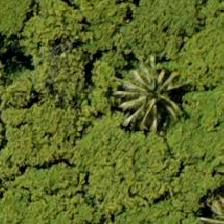Kelapa_Sawit: (107, 48, 197, 138)
